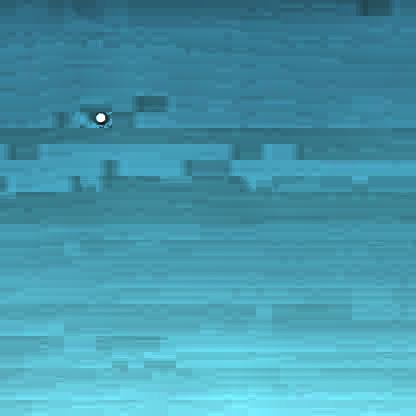golfball: (92, 107, 106, 121)
